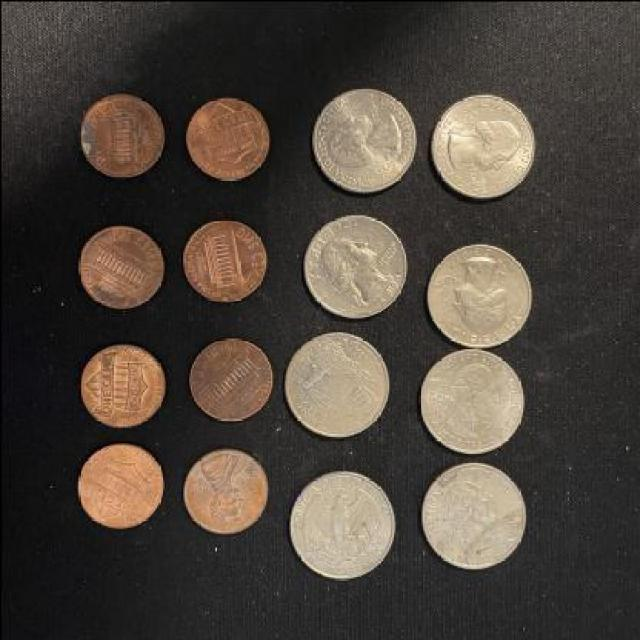Penny: (72, 337, 165, 435), (178, 444, 272, 538), (72, 224, 166, 314), (74, 438, 164, 531), (183, 338, 277, 424), (177, 215, 268, 303), (184, 90, 268, 182), (78, 90, 162, 182)
Quarter: (286, 463, 397, 579), (417, 460, 528, 571), (308, 81, 414, 196), (429, 86, 534, 202), (416, 346, 526, 456), (424, 240, 536, 348), (280, 326, 388, 437), (302, 214, 409, 323)
